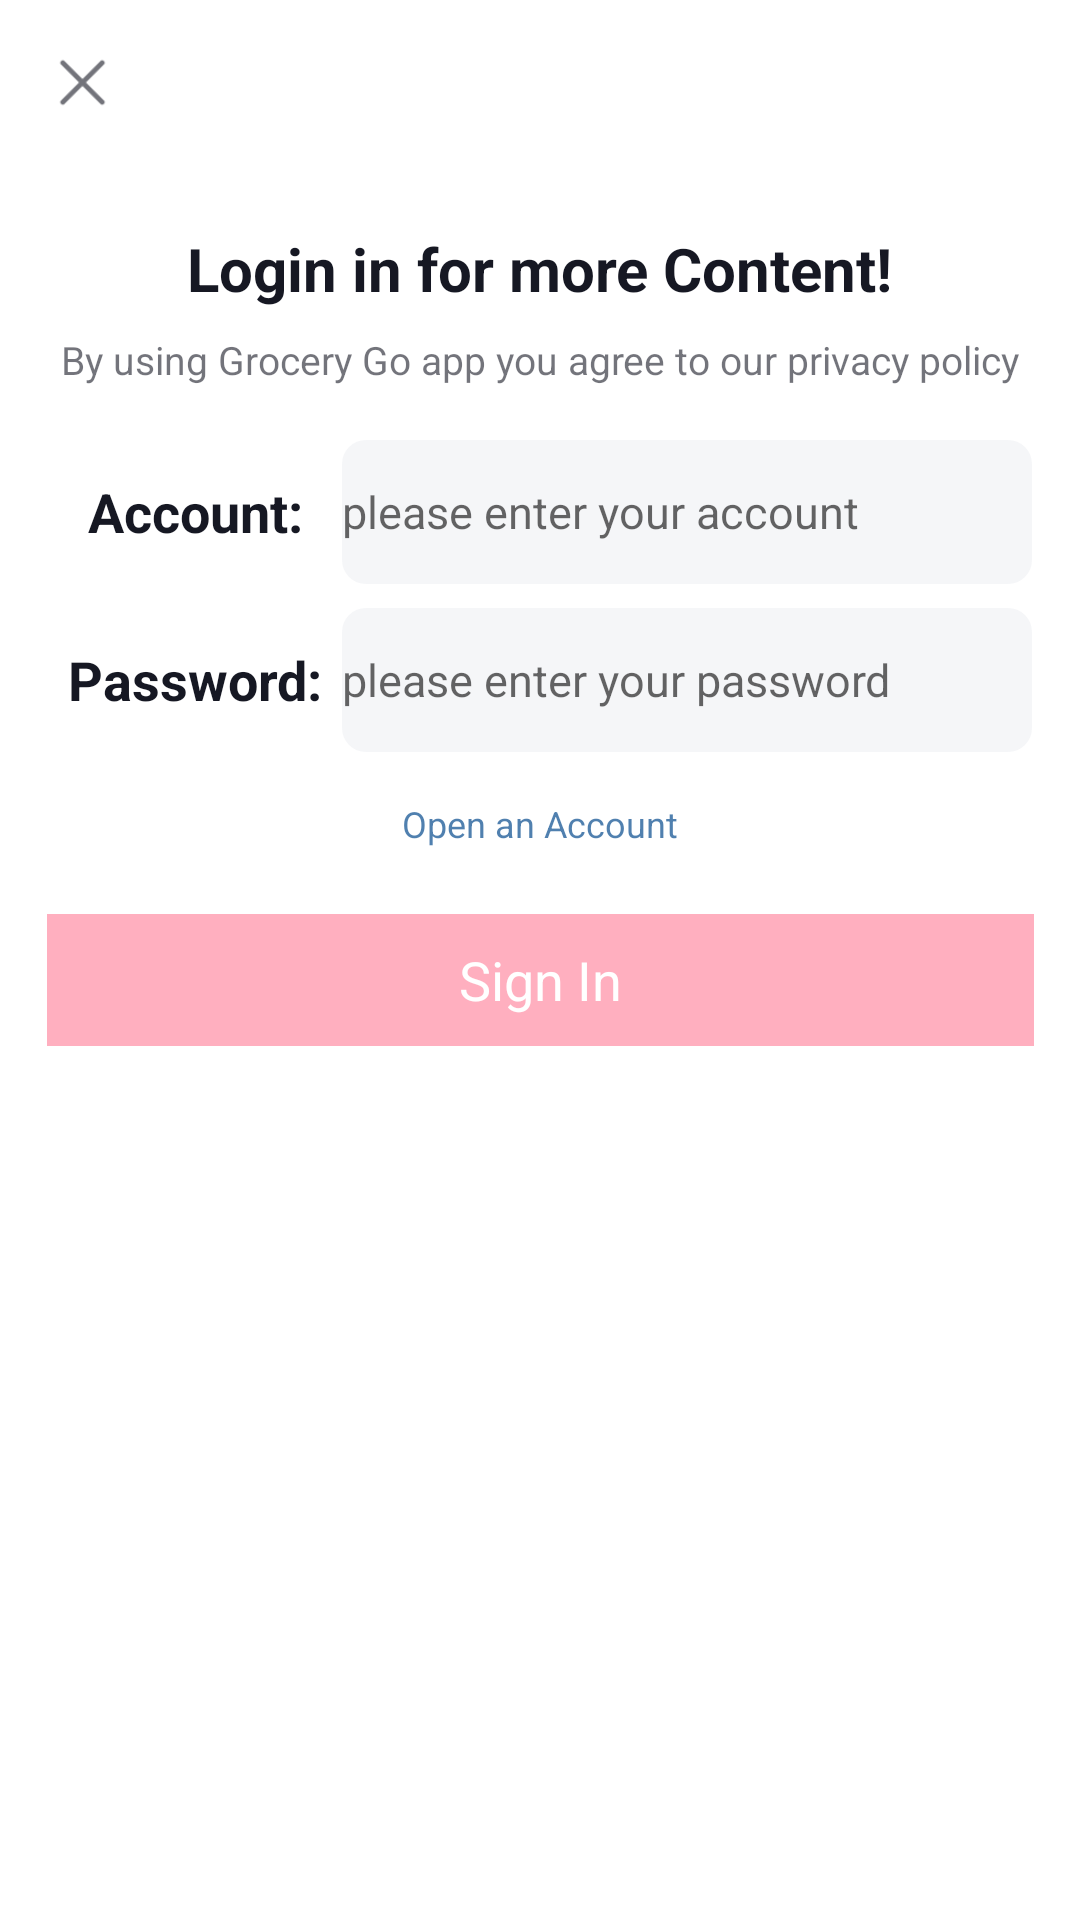

Where icons sit on this 1080 x 1920 app screen, as box=[x1, y1, x2, y2]:
dismiss: box=[60, 60, 105, 105]
